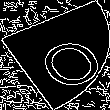O_NW: (13, 22, 97, 88)
